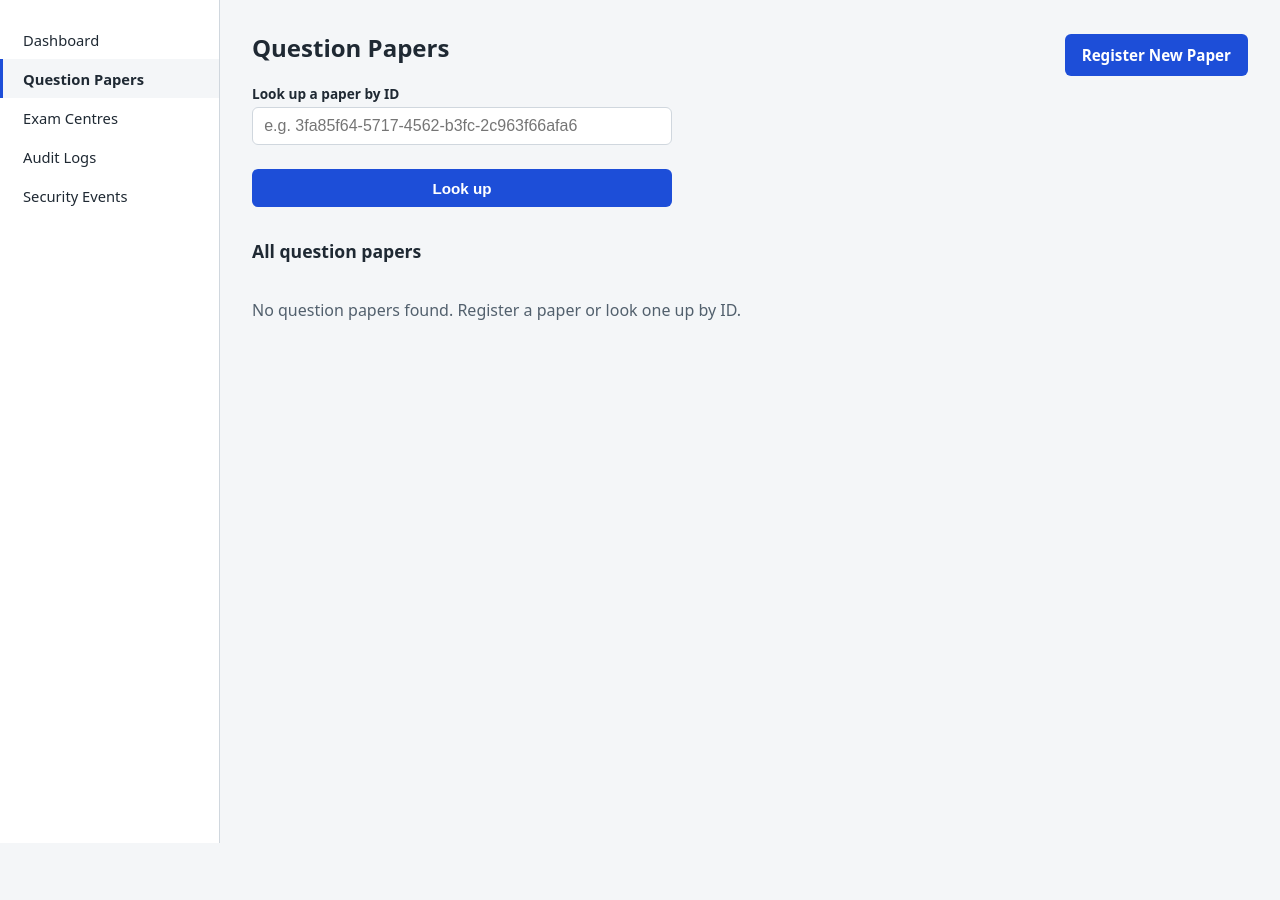
Test: Admin Portal — Question Papers › shows a not-found error for an unknown paper ID
Type "does-not-exist" into the field labelled "Look up a paper by ID".
click(462, 126); type("does-not-exist")  # box top-left (252, 107), bottom-right (672, 145)
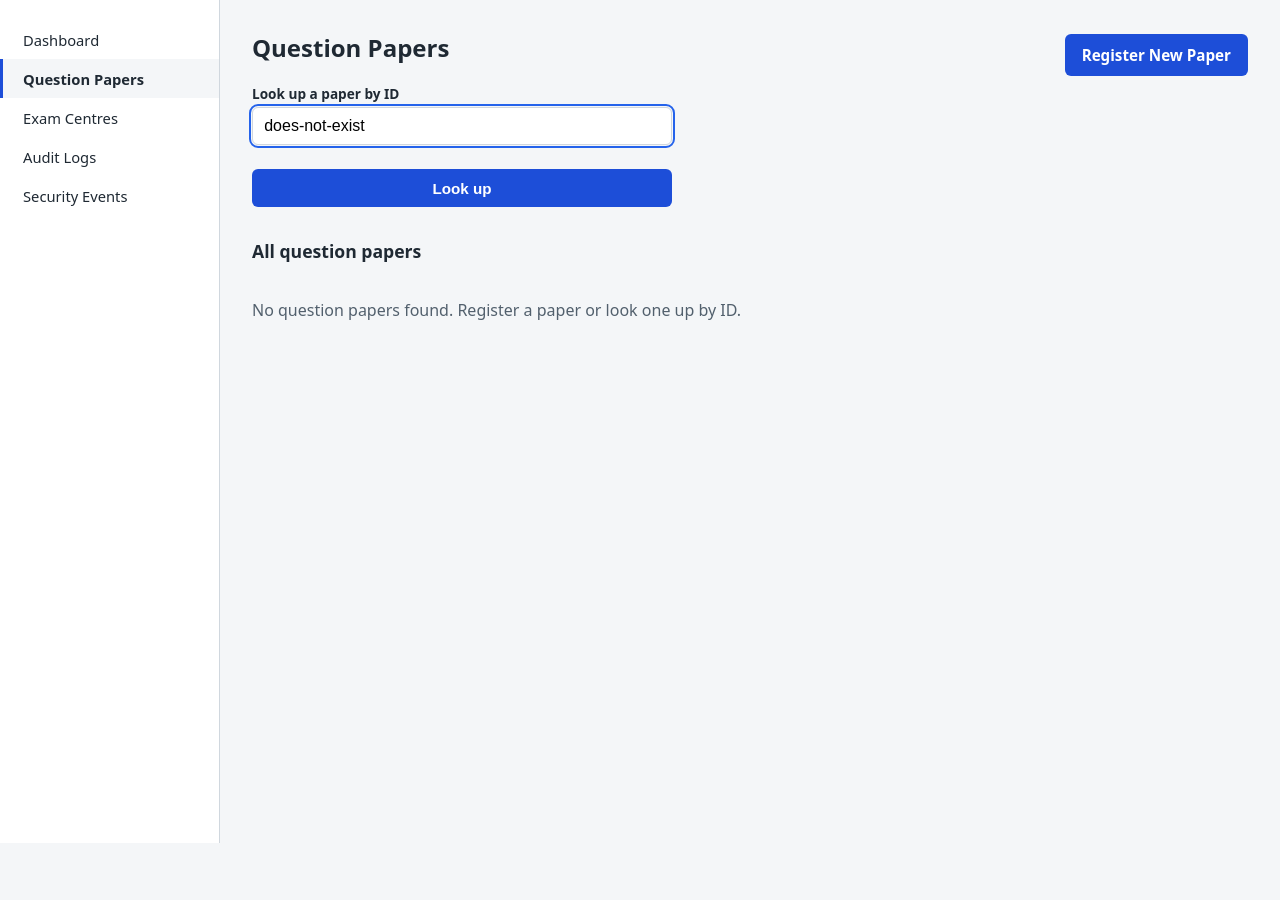
Click the button "Look up".
click(462, 188)  # box top-left (252, 169), bottom-right (672, 207)
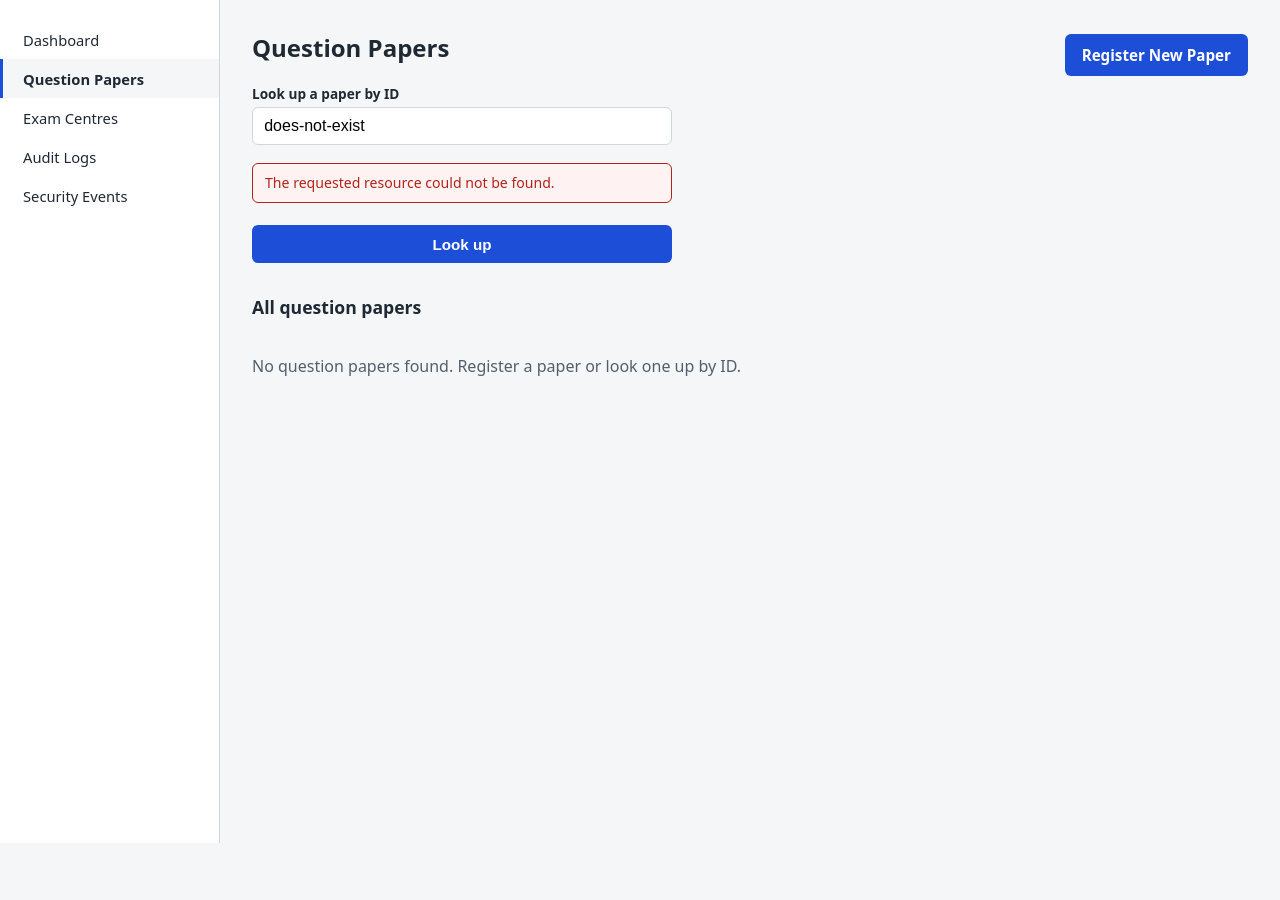
Expected: the text "The requested resource could not be found." is shown, top-left (252, 163), bottom-right (672, 203)
